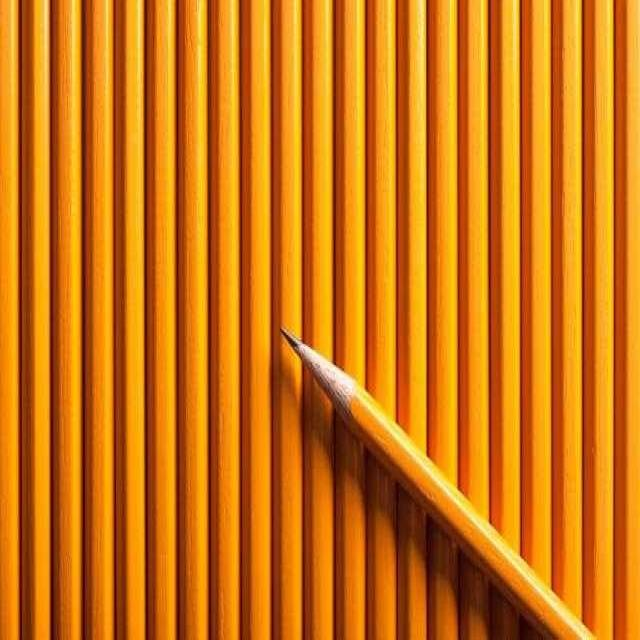pencil: (277, 329, 604, 638), (18, 0, 52, 638)
